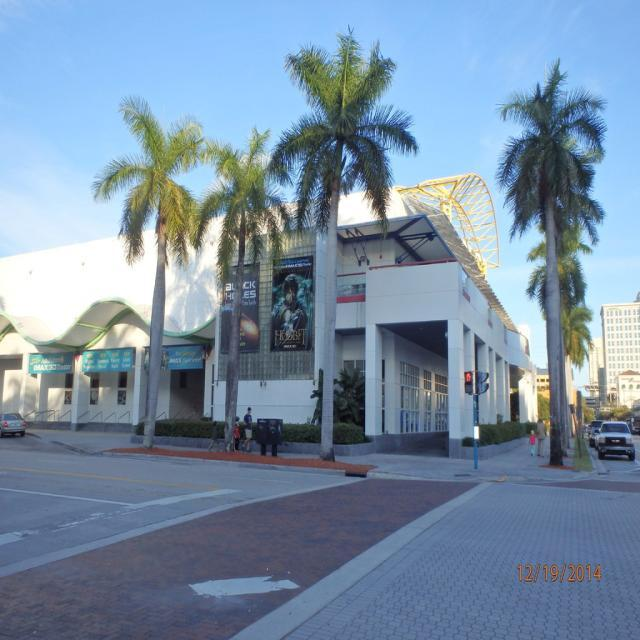off traffic light: (478, 368, 490, 394)
traffic light: (464, 370, 474, 394)
